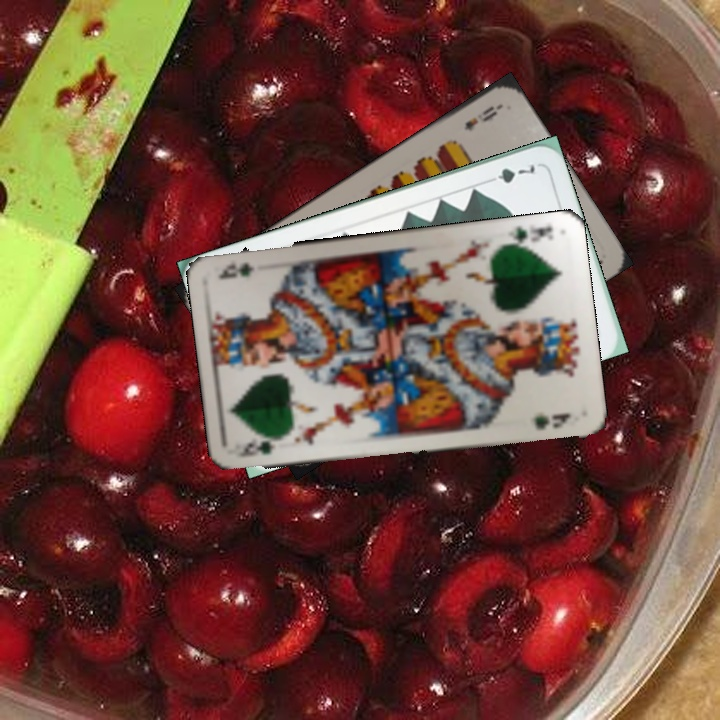E9: (460, 101, 503, 134)
G7: (481, 160, 538, 186)
GK: (501, 221, 555, 250), (234, 439, 276, 460)
